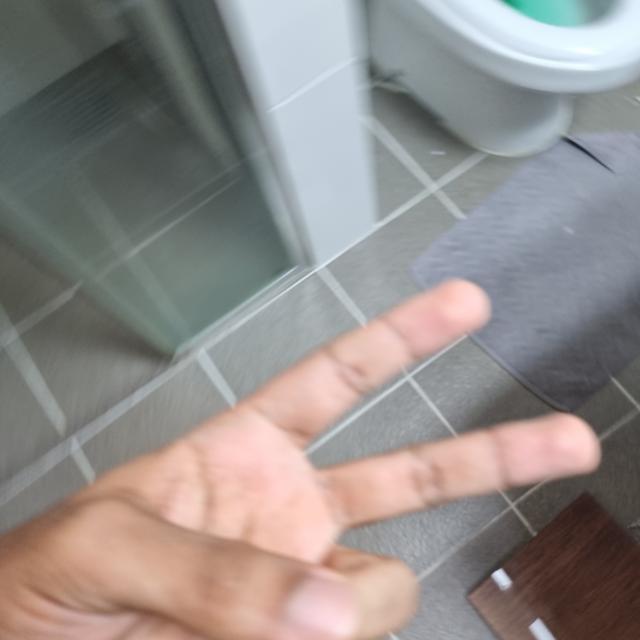Scissors: (0, 278, 612, 639)
